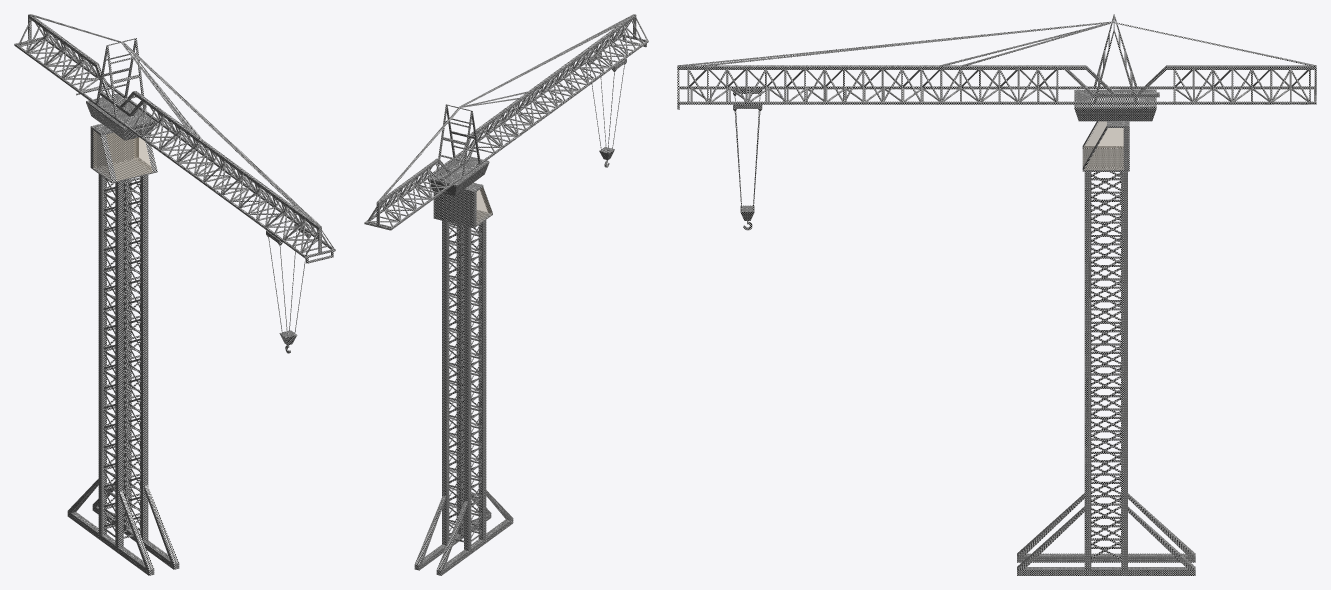
The model's file is grue.FBX.
The picture shows the model from 3 angles, left to right: view 1: azimuth 30°, elevation 25°; view 2: azimuth 150°, elevation 25°; view 3: azimuth 270°, elevation 25°; orthographic projection. The views are drawn at different scales.
Parts seen in each view (by area): view 1: Box009, Box012, Box013, Box165, Box015, Box169, Box005, Box014, Object003, Object001, Object002, Box006 (+1 smaller); view 2: Box009, Box012, Box015, Box014, Box165, Box169, Box013, Box005, Object001, Object002, Box006; view 3: Box009, Box165, Box005, Box013, Box014, Object001, Box169, Box006, Object005, Object002.
Boxes of the visible parts, x1=… form: Box009: x1=14, y1=14, x2=335, y2=258; Box012: x1=115, y1=180, x2=123, y2=547; Box013: x1=140, y1=174, x2=148, y2=541; Box165: x1=67, y1=479, x2=179, y2=575; Box015: x1=98, y1=174, x2=106, y2=535; Box169: x1=90, y1=123, x2=157, y2=183; Box005: x1=76, y1=43, x2=324, y2=242; Box014: x1=123, y1=178, x2=131, y2=529; Object003: x1=106, y1=133, x2=151, y2=180; Object001: x1=86, y1=93, x2=155, y2=140; Object002: x1=96, y1=38, x2=144, y2=119; Box006: x1=123, y1=124, x2=306, y2=258; Box009: x1=364, y1=14, x2=648, y2=230; Box012: x1=478, y1=220, x2=486, y2=540; Box015: x1=464, y1=226, x2=471, y2=550; Box014: x1=442, y1=220, x2=449, y2=545; Box165: x1=414, y1=490, x2=513, y2=575; Box169: x1=433, y1=182, x2=492, y2=228; Box013: x1=456, y1=224, x2=463, y2=534; Box005: x1=419, y1=20, x2=627, y2=192; Object001: x1=428, y1=155, x2=489, y2=195; Object002: x1=436, y1=104, x2=480, y2=177; Box006: x1=471, y1=40, x2=648, y2=170; Box009: x1=677, y1=21, x2=1316, y2=104; Box165: x1=1017, y1=493, x2=1195, y2=575; Box005: x1=699, y1=23, x2=1159, y2=104; Box013: x1=1084, y1=171, x2=1091, y2=569; Box014: x1=1121, y1=171, x2=1127, y2=569; Object001: x1=1074, y1=89, x2=1156, y2=121; Box169: x1=1082, y1=121, x2=1129, y2=171; Box006: x1=679, y1=86, x2=1114, y2=89; Object005: x1=1084, y1=128, x2=1123, y2=169; Object002: x1=1093, y1=14, x2=1137, y2=102.
Size of the model in its own units: 101 by 1053 by 1116.
27 materials, 26 textured.
